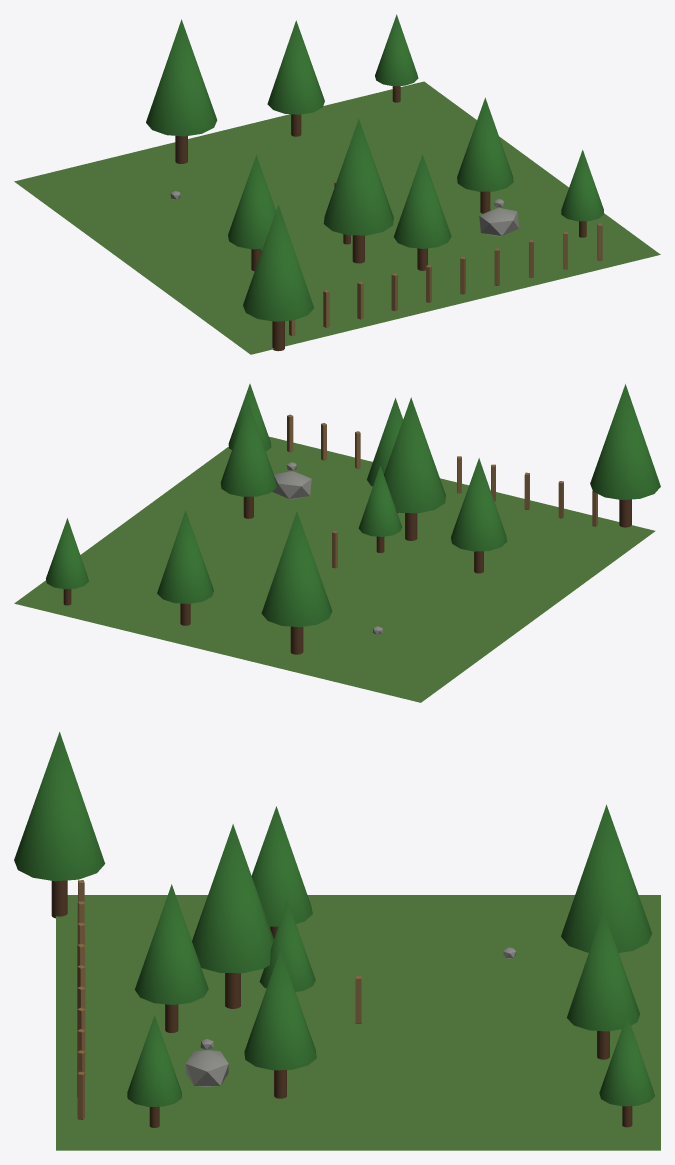
File: gen_forest_glade.mobile-mid.glb
The picture shows the model from 3 angles, top to bottom: view 1: azimuth 30°, elevation 25°; view 2: azimuth 150°, elevation 25°; view 3: azimuth 270°, elevation 25°; orthographic projection. The views are drawn at different scales.
Visible parts, largest first — view 1: Plane, tree_000, tree_004, tree_008, tree_007, tree_006, tree_003, tree_009, tree_002, tree_005, Icosphere; view 2: Plane, tree_008, tree_004, tree_000, tree_007, tree_003, tree_009, tree_001, tree_002, tree_006, Icosphere, tree_005; view 3: Plane, tree_004, tree_000, tree_008, tree_006, tree_007, tree_003, tree_009, tree_005, tree_002, tree_001, Icosphere.
Part boxes in pixels (x1=…): Plane: x1=14, y1=81, x2=660, y2=354; tree_000: x1=323, y1=119, x2=393, y2=263; tree_004: x1=243, y1=205, x2=313, y2=351; tree_008: x1=146, y1=19, x2=217, y2=163; tree_007: x1=457, y1=97, x2=513, y2=213; tree_006: x1=393, y1=154, x2=451, y2=270; tree_003: x1=267, y1=20, x2=324, y2=136; tree_009: x1=228, y1=155, x2=275, y2=271; tree_002: x1=375, y1=14, x2=418, y2=102; tree_005: x1=561, y1=150, x2=603, y2=237; Icosphere: x1=479, y1=208, x2=519, y2=236; Plane: x1=14, y1=436, x2=655, y2=702; tree_008: x1=261, y1=511, x2=332, y2=654; tree_004: x1=590, y1=384, x2=660, y2=527; tree_000: x1=384, y1=397, x2=445, y2=540; tree_007: x1=220, y1=403, x2=276, y2=518; tree_003: x1=157, y1=510, x2=213, y2=625; tree_009: x1=451, y1=458, x2=507, y2=573; tree_001: x1=358, y1=466, x2=401, y2=552; tree_002: x1=46, y1=518, x2=88, y2=605; tree_006: x1=367, y1=398, x2=403, y2=513; Icosphere: x1=272, y1=471, x2=311, y2=499; tree_005: x1=228, y1=384, x2=271, y2=451; Plane: x1=56, y1=895, x2=660, y2=1150; tree_004: x1=14, y1=732, x2=105, y2=918; tree_000: x1=192, y1=824, x2=273, y2=1008; tree_008: x1=561, y1=804, x2=652, y2=952; tree_006: x1=134, y1=884, x2=208, y2=1032; tree_007: x1=244, y1=950, x2=316, y2=1098; tree_003: x1=567, y1=910, x2=639, y2=1059; tree_009: x1=251, y1=806, x2=312, y2=938; tree_005: x1=127, y1=1015, x2=181, y2=1127; tree_002: x1=599, y1=1014, x2=654, y2=1127; tree_001: x1=259, y1=901, x2=315, y2=991; Icosphere: x1=186, y1=1050, x2=228, y2=1086.
Size of the model in its own units: 12.05 by 4.03 by 12.83.
1 material, 1 textured.
